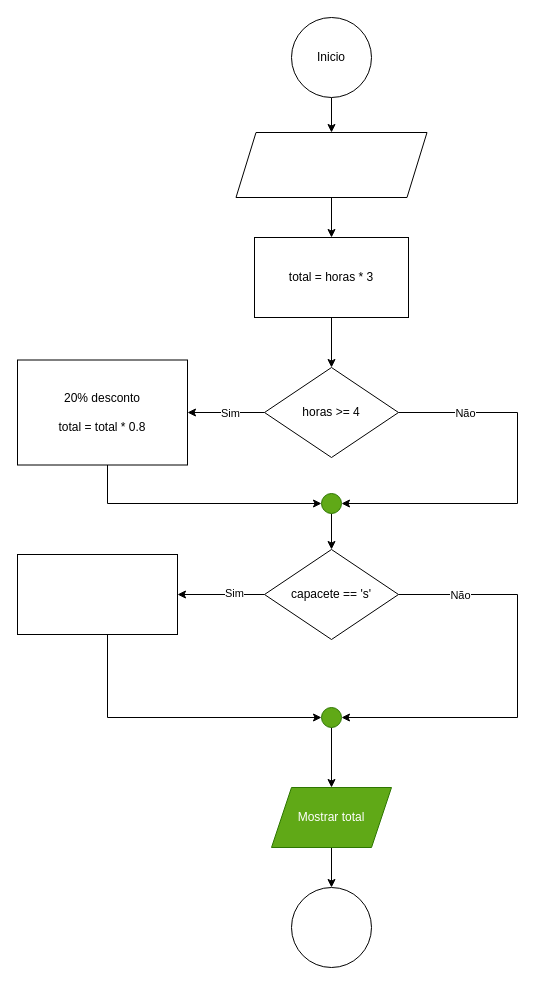
This 543x985 diagram has some shape labels left out. Here are the shapes that lost their labels. From the top down, the centre of each, then its label:
At (x=331, y=165): "Ler horas, Ler capacete s/n".
At (x=97, y=594): "total = total + 2".
At (x=331, y=927): "Fim".
